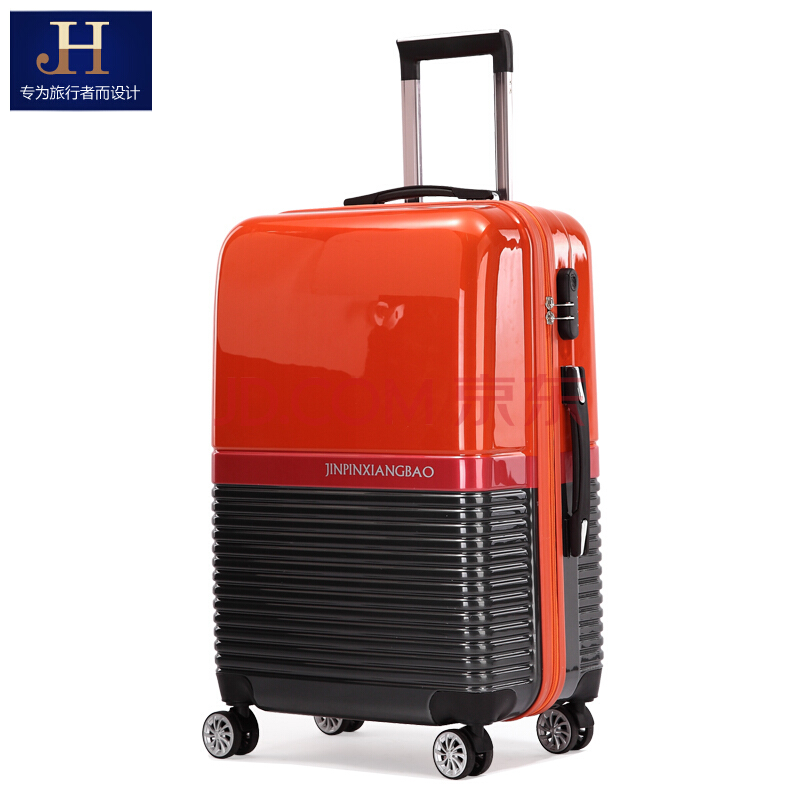luggage: (201, 26, 608, 779)
